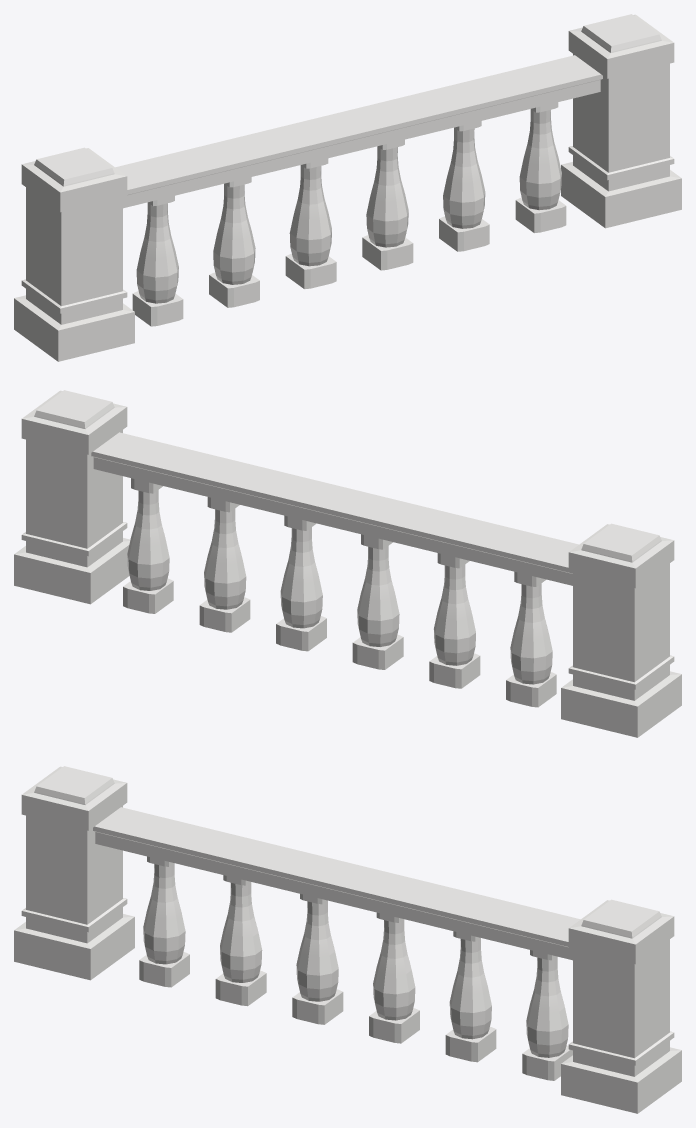
The model's file is Fence_1.glb.
3 renders of one model, top to bottom at view 1: azimuth 30°, elevation 25°; view 2: azimuth 150°, elevation 25°; view 3: azimuth 330°, elevation 25°, orthographic.
Parts seen in each view (by area): view 1: Fence_1; view 2: Fence_1; view 3: Fence_1.
Boxes of the visible parts, x1,y1,x2,y2 form: Fence_1: (14,14,681,361); Fence_1: (14,390,681,737); Fence_1: (14,766,681,1113).
Bounding box in the file's own units: 4.48 × 1.21 × 0.5502.
1 material, 1 textured.
